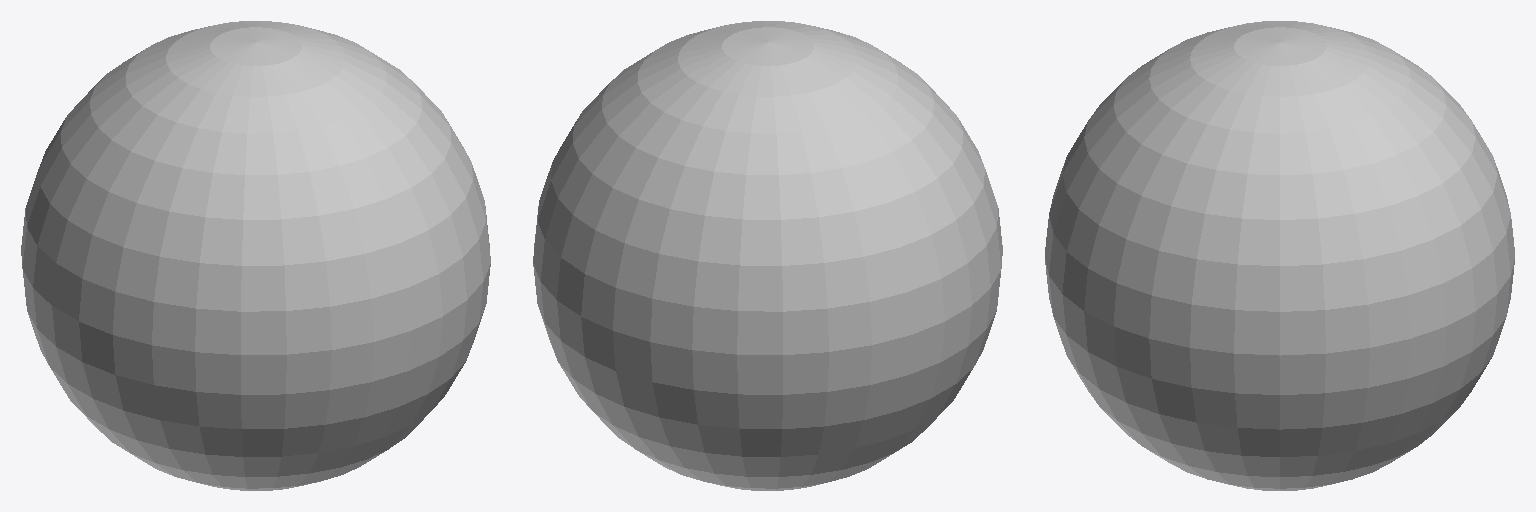
Rendered from pluto.obj.
3 renders of one model, left to right at view 1: azimuth 30°, elevation 25°; view 2: azimuth 150°, elevation 25°; view 3: azimuth 270°, elevation 25°, orthographic.
Parts seen in each view (by area): view 1: Sphere; view 2: Sphere; view 3: Sphere.
Part boxes in pixels (left/top/right/bottom): Sphere: left=21, top=21, right=490, bottom=490; Sphere: left=533, top=21, right=1002, bottom=490; Sphere: left=1045, top=21, right=1514, bottom=490.
Size of the model in its own units: 0.3227 by 0.3227 by 0.3227.